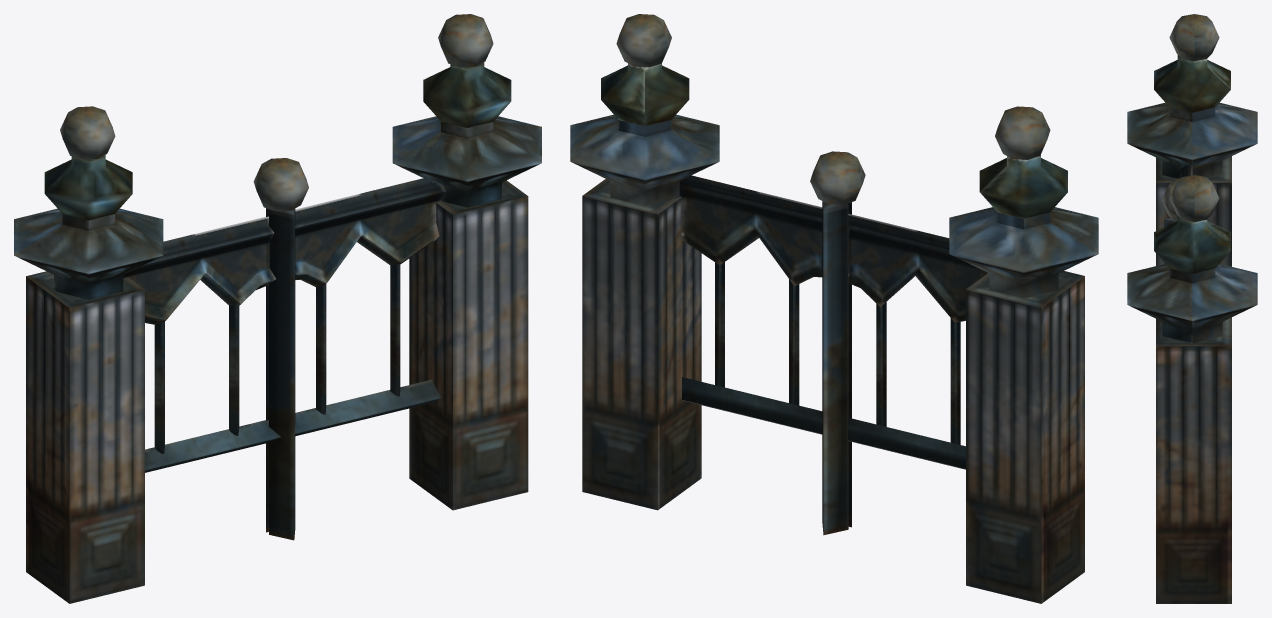
Rendered from SM_EN_2005_xiaoweiqiang02.FBX.
3 renders of one model, left to right at view 1: azimuth 30°, elevation 25°; view 2: azimuth 150°, elevation 25°; view 3: azimuth 270°, elevation 25°, orthographic. The views are drawn at different scales.
Parts seen in each view (by area): view 1: SM_EN_2005_xiaoweiqiang02; view 2: SM_EN_2005_xiaoweiqiang02; view 3: SM_EN_2005_xiaoweiqiang02.
Boxes of the visible parts, bbox=[...] form: SM_EN_2005_xiaoweiqiang02: bbox=[14, 14, 541, 603]; SM_EN_2005_xiaoweiqiang02: bbox=[570, 14, 1098, 603]; SM_EN_2005_xiaoweiqiang02: bbox=[1127, 14, 1257, 603].
Bounding box in the file's own units: 120 × 102 × 29.29.
